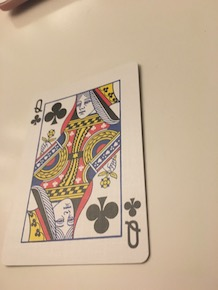QueenOfClubs: (2, 56, 155, 266)
